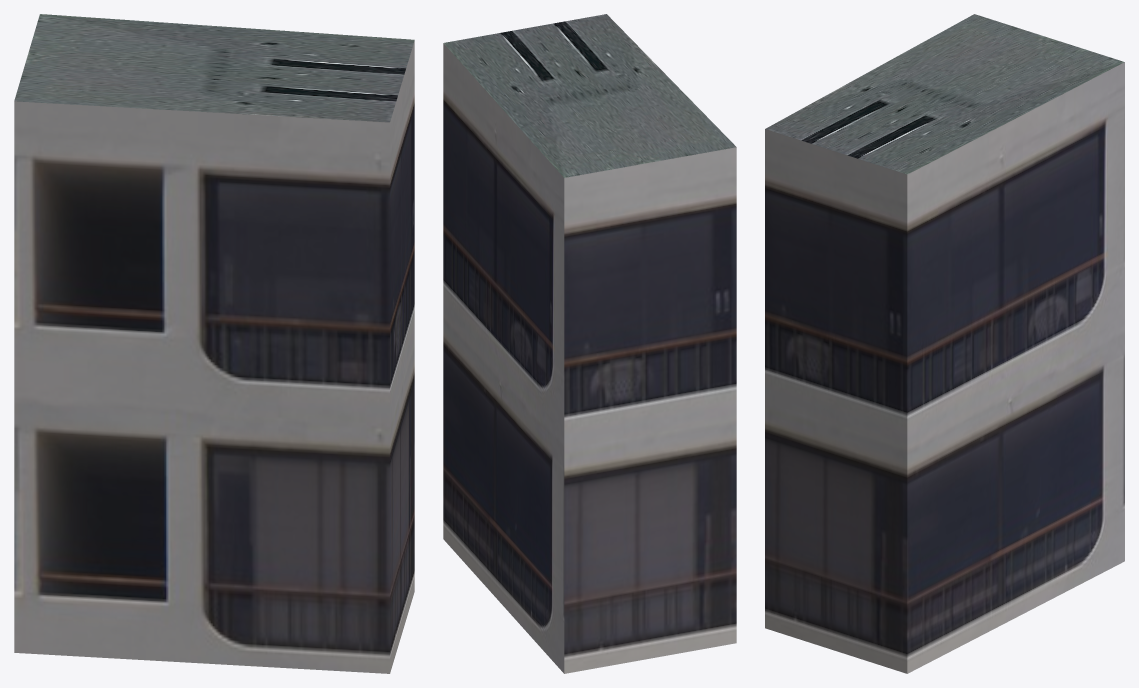
The model's file is RelTex__3.fbx.
3 views of the same model, side by side, from view 1: azimuth 30°, elevation 25°; view 2: azimuth 150°, elevation 25°; view 3: azimuth 270°, elevation 25° (orthographic). The views are drawn at different scales.
Parts seen in each view (by area): view 1: CityEngineMaterial_7_m, CityEngineMaterial_6_m; view 2: CityEngineMaterial_7_m, CityEngineMaterial_6_m; view 3: CityEngineMaterial_7_m, CityEngineMaterial_6_m.
Part boxes in pixels (<box>): CityEngineMaterial_7_m: <box>14,41,414,673</box>; CityEngineMaterial_6_m: <box>14,14,414,122</box>; CityEngineMaterial_7_m: <box>443,43,736,673</box>; CityEngineMaterial_6_m: <box>443,14,736,177</box>; CityEngineMaterial_7_m: <box>765,62,1124,673</box>; CityEngineMaterial_6_m: <box>765,14,1124,174</box>.
Bounding box in the file's own units: 6.21 × 9 × 5.88.
Materials: 2 (2 with a texture image).
